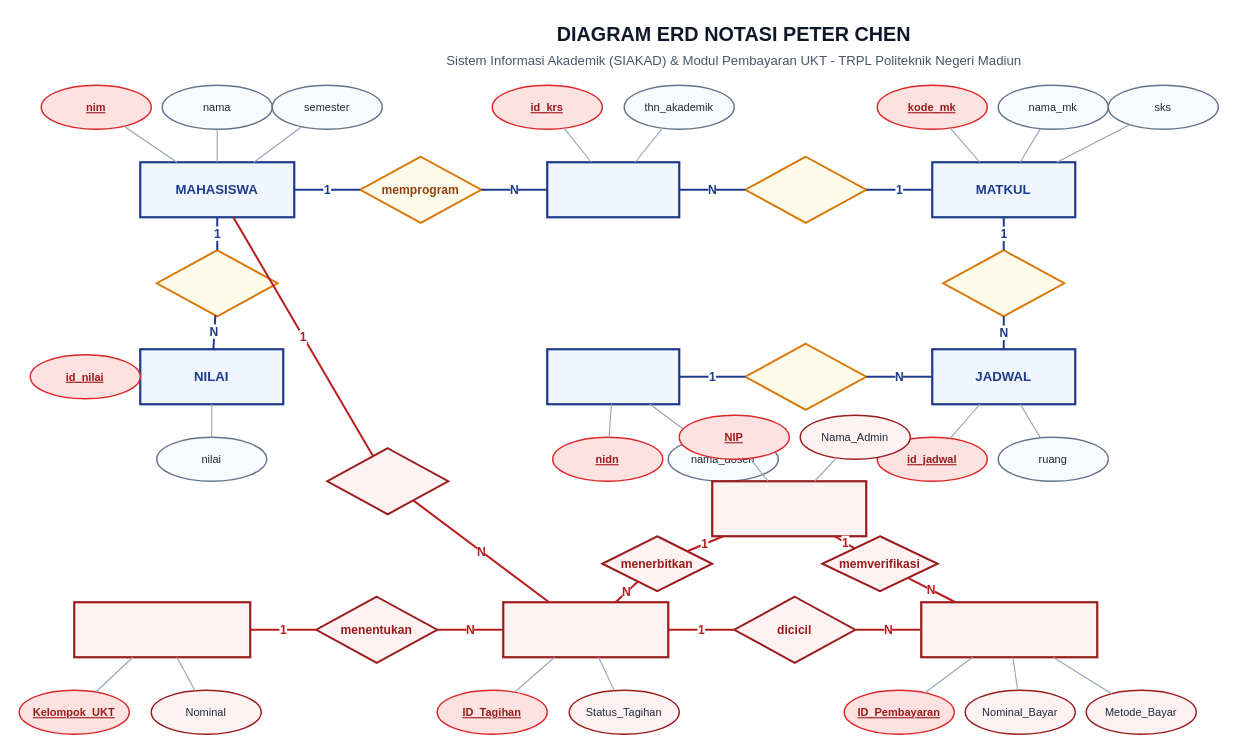
This 1239x754 diagram has some shape labels left out. The shapes that lost their labels are listed below. From the top down, each one's centre as x and y in pixels, then its label:
the point at 613,189: KRS
the point at 805,189: memuat
the point at 216,283: memperoleh
the point at 1003,283: dijadwalkan
the point at 613,376: DOSEN
the point at 805,376: mengajar
the point at 387,481: memiliki
the point at 789,508: ADMIN_PRODI
the point at 162,629: REF_KELOMPOK_UKT
the point at 585,629: TAGIHAN_UKT
the point at 1009,629: PEMBAYARAN_UKT
